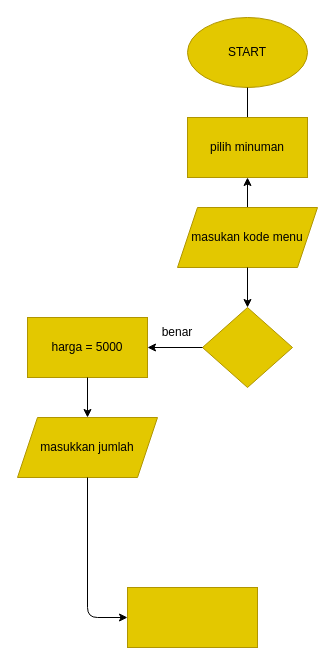
Some shapes in this 335 by 665 pixel diagram are drawn without their labels. The centre of each missing label's shape, as x and y in pixels:
"kode = 1" goes at (x=247, y=347).
"total = harga * jumlah" goes at (x=192, y=617).
